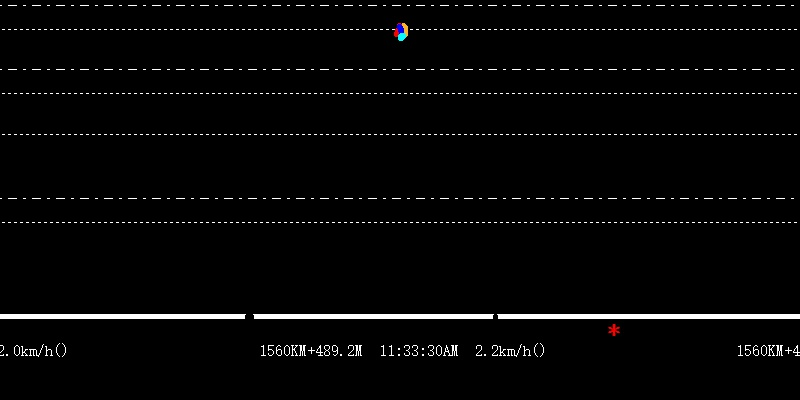face_2: (394, 21, 409, 42)
star: (605, 322, 620, 337)
